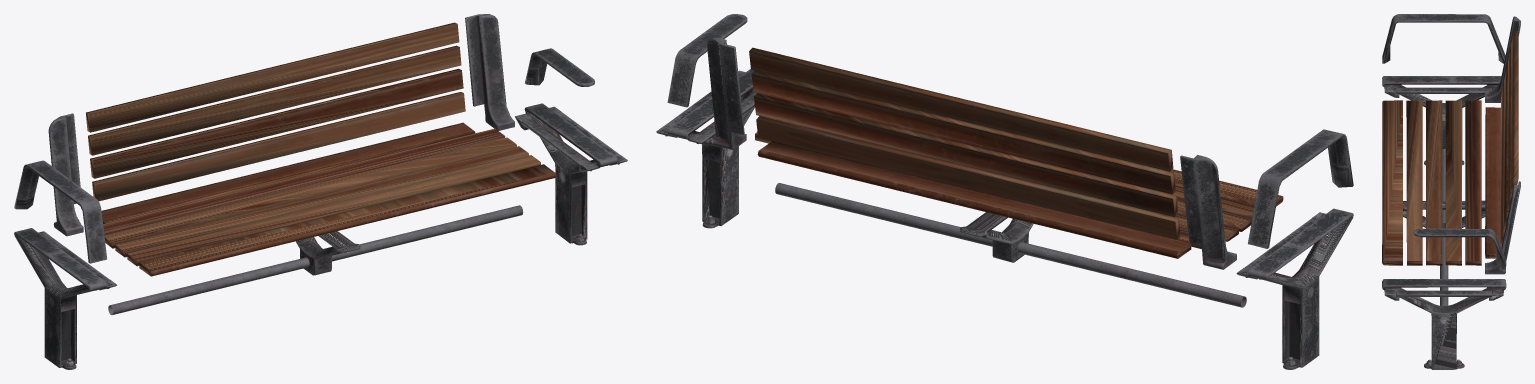
Rendered from bench_timber.glb.
3 renders of one model, left to right at view 1: azimuth 30°, elevation 25°; view 2: azimuth 150°, elevation 25°; view 3: azimuth 270°, elevation 25°, orthographic. The views are drawn at different scales.
Visible parts, largest first — view 1: bench_timber; view 2: bench_timber; view 3: bench_timber.
Boxes of the visible parts, left/top/right/bottom form: bench_timber: left=14, top=14, right=627, bottom=369; bench_timber: left=656, top=14, right=1353, bottom=369; bench_timber: left=1382, top=14, right=1520, bottom=369.
Size of the model in its own units: 2.45 by 0.8669 by 0.6704.
3 materials, 3 textured.
